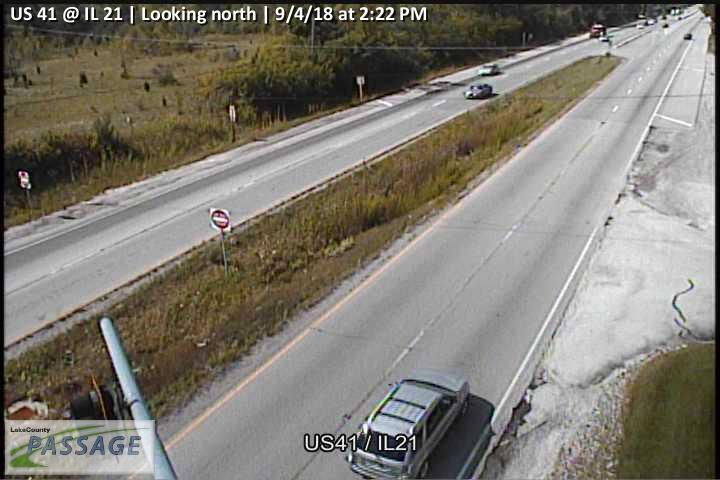SUV: (344, 366, 470, 480)
Sedan: (463, 82, 493, 99), (476, 61, 499, 75)
